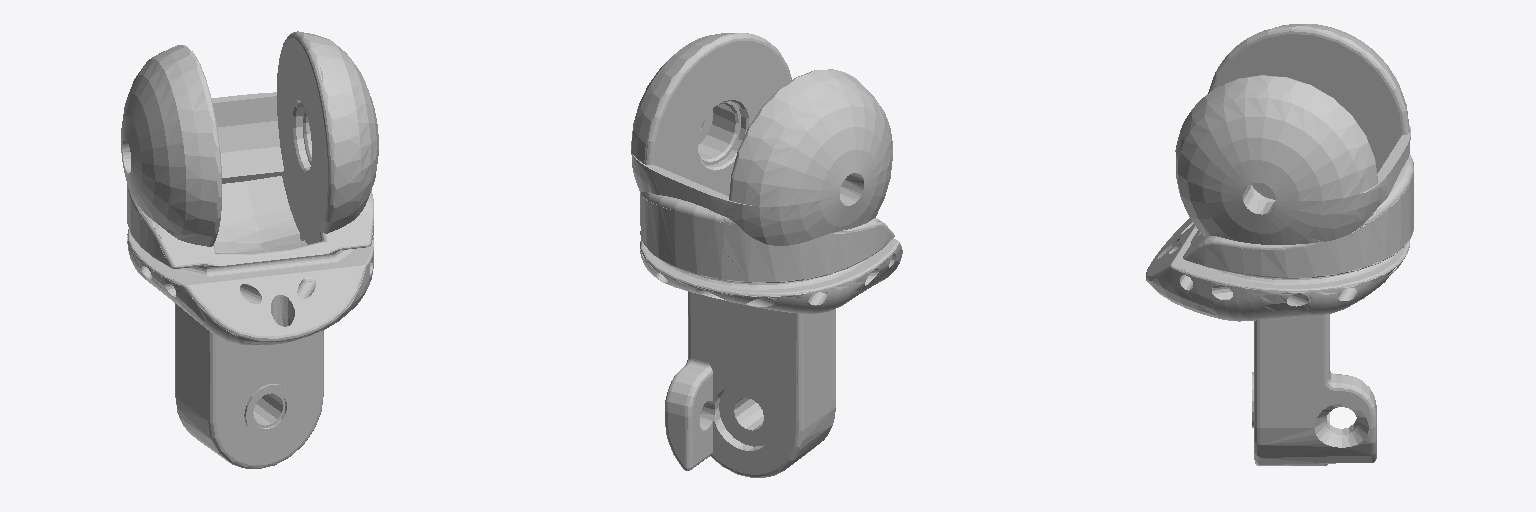
The model's file is armar-7_thumb_basis.obj.
3 renders of one model, left to right at view 1: azimuth 30°, elevation 25°; view 2: azimuth 150°, elevation 25°; view 3: azimuth 270°, elevation 25°, orthographic.
Bounding box in the file's own units: 0.0222 × 0.0387 × 0.0231.